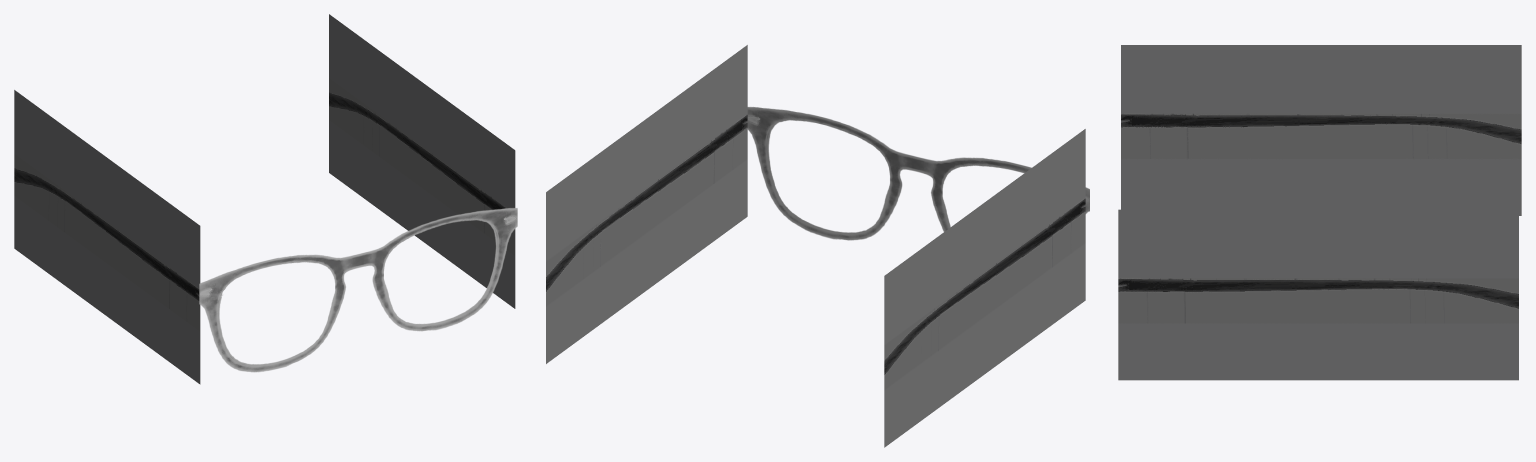
The model's file is broadway-flex-69_gray.glb.
3 renders of one model, left to right at view 1: azimuth 30°, elevation 25°; view 2: azimuth 150°, elevation 25°; view 3: azimuth 270°, elevation 25°, orthographic. The views are drawn at different scales.
Visible parts, largest first — view 1: Right, Left, Front; view 2: Left, Right, Front; view 3: Left, Right.
Part boxes in pixels (left/top/right/bottom): Right: left=14, top=90, right=200, bottom=384; Left: left=329, top=14, right=515, bottom=308; Front: left=199, top=208, right=517, bottom=372; Left: left=546, top=45, right=747, bottom=363; Right: left=884, top=129, right=1085, bottom=447; Front: left=747, top=107, right=1089, bottom=240; Left: left=1118, top=209, right=1518, bottom=380; Right: left=1121, top=45, right=1521, bottom=215.
Bounding box in the file's own units: 146 × 109 × 149.
Materials: 4 (4 with a texture image).
